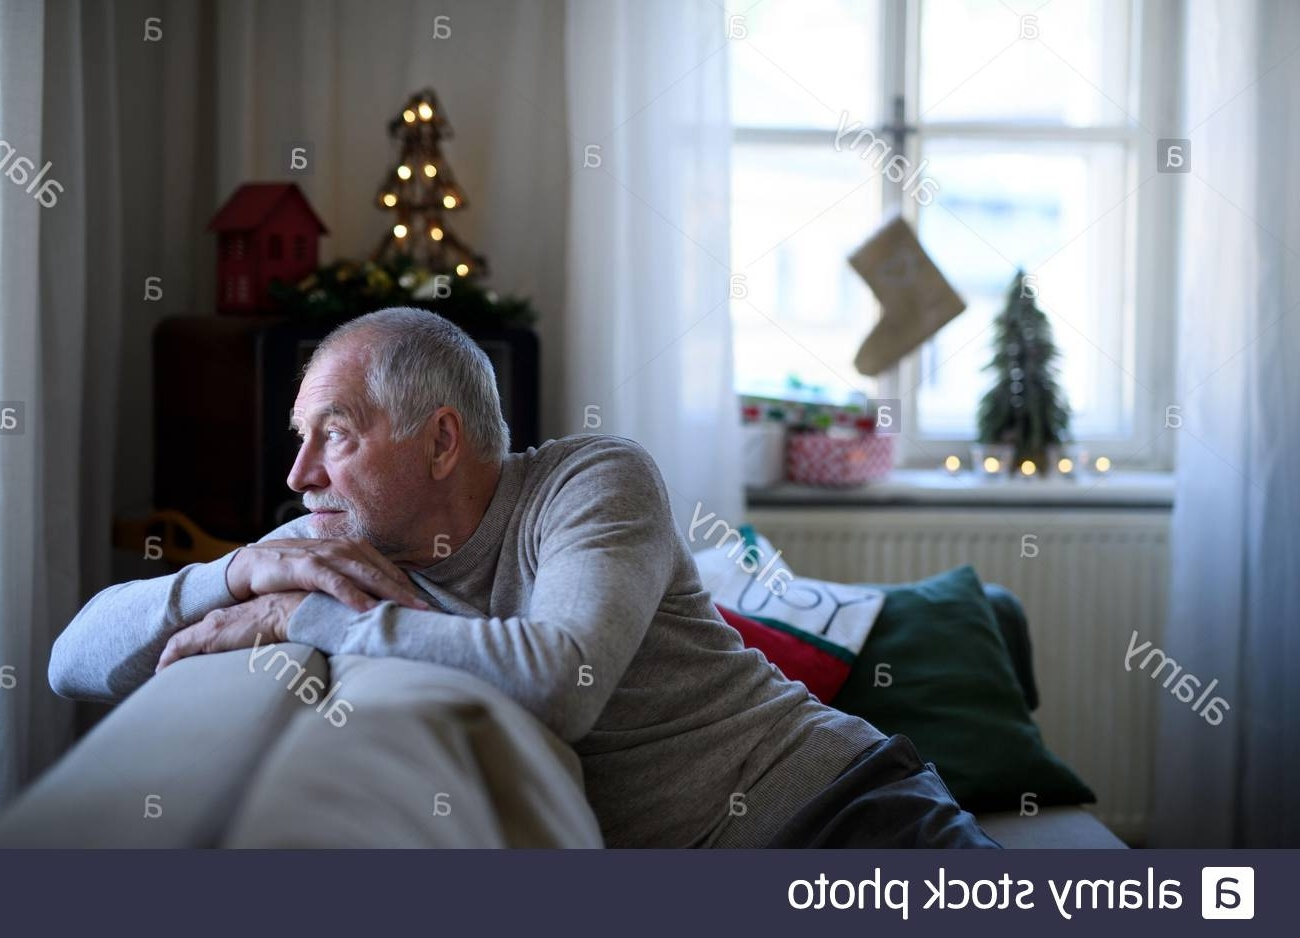not_fallen: (22, 305, 1013, 866)
